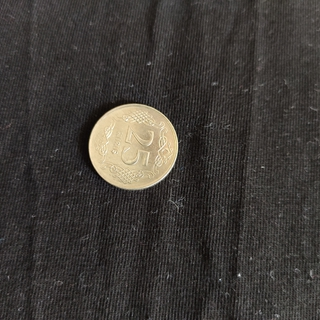25KURUS: (86, 101, 180, 191)
